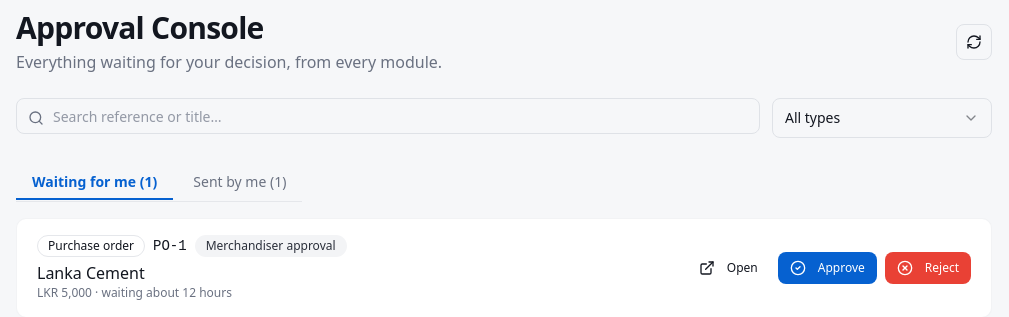
Test: Approval console › items I sent are listed without decision buttons
Click the tab "Sent by me (1)": (240, 182) left=177, top=164, right=302, bottom=200
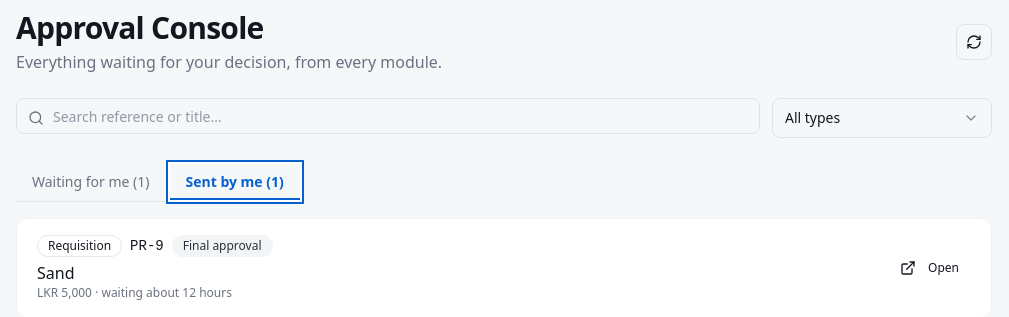
expect the text "PR-9" is shown: met, box left=130, top=236, right=164, bottom=256
expect no buttons "Approve" are shown: met
